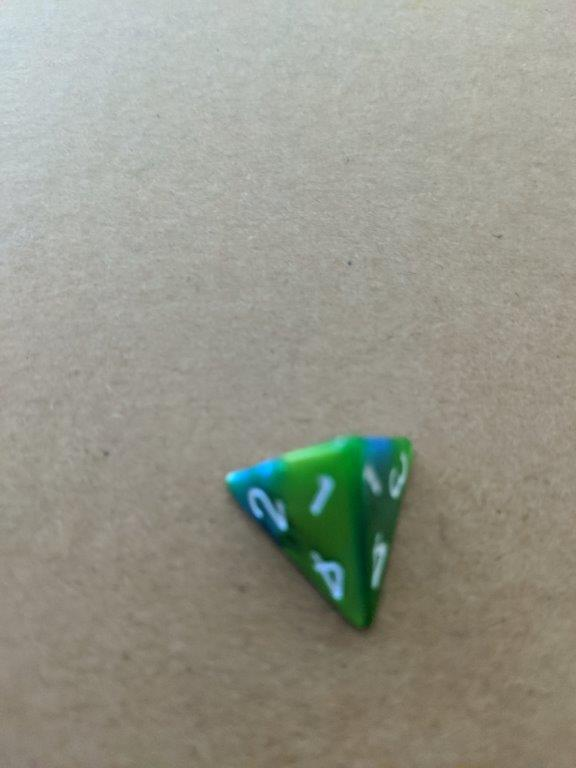d4-1: (219, 433, 418, 635)
